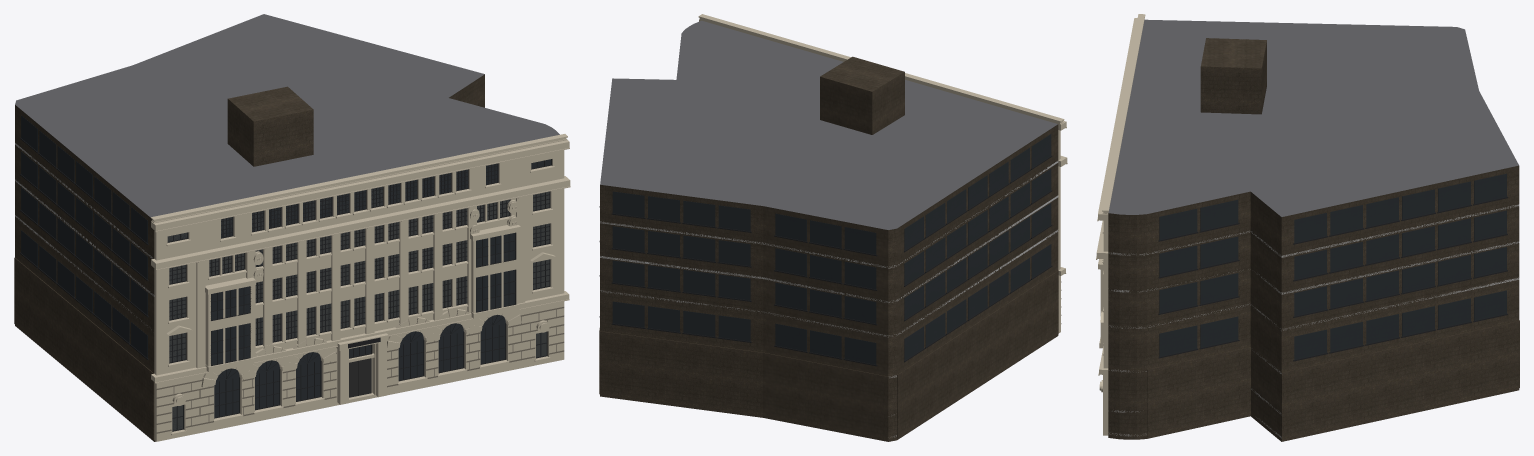
Rendered from barclay_hero4b.glb.
3 views of the same model, side by side, from view 1: azimuth 30°, elevation 25°; view 2: azimuth 150°, elevation 25°; view 3: azimuth 270°, elevation 25° (orthographic). The views are drawn at different scales.
Visible parts, largest first — view 1: HERO_body, Facade_upper, Window_01_sill, Window_02_glass, HERO_side_block_base, Window_03_glass, Window_01_glass, Window_05_glass, Window_04_glass, Parapet, HERO_roof_tower, Window_04_sill (+8 smaller); view 2: HERO_body, HERO_side_block_base, Window_02_glass, Window_04_glass, Window_03_glass, Window_05_glass, HERO_roof_tower, Facade_upper, Floor_04, Window_02_frame, Window_03_frame, Window_04_frame (+4 smaller); view 3: HERO_body, HERO_side_block_base, Window_03_glass, Window_02_glass, Window_04_glass, Window_05_glass, HERO_roof_tower, Facade_upper, Parapet, Floor_05, Floor_04, Window_03_frame (+5 smaller).
Part boxes in pixels (x1,y1,x2,y2): HERO_body: (15, 14, 559, 441); Facade_upper: (151, 134, 567, 375); Window_01_sill: (151, 291, 569, 441); Window_02_glass: (21, 230, 549, 364); HERO_side_block_base: (14, 257, 154, 439); Window_03_glass: (21, 187, 549, 319); Window_01_glass: (172, 314, 546, 430); Window_05_glass: (21, 115, 551, 243); Window_04_glass: (21, 151, 549, 283); Parapet: (151, 138, 569, 246); HERO_roof_tower: (227, 86, 313, 166); Window_04_sill: (151, 176, 570, 287); HERO_body: (600, 20, 1058, 441); HERO_side_block_base: (599, 270, 1058, 439); Window_02_glass: (612, 244, 1051, 364); Window_04_glass: (612, 169, 1051, 289); Window_03_glass: (612, 203, 1051, 323); Window_05_glass: (612, 134, 1051, 254); HERO_roof_tower: (820, 56, 904, 134); Facade_upper: (698, 14, 1064, 270); Floor_04: (600, 195, 1058, 302); Window_02_frame: (599, 265, 1052, 366); Window_03_frame: (599, 224, 1052, 325); Window_04_frame: (599, 190, 1052, 290); HERO_body: (1108, 19, 1519, 441); HERO_side_block_base: (1147, 320, 1519, 439); Window_03_glass: (1159, 247, 1506, 316); Window_02_glass: (1159, 290, 1506, 359); Window_04_glass: (1159, 210, 1506, 279); Window_05_glass: (1159, 173, 1506, 242); HERO_roof_tower: (1200, 38, 1266, 114); Facade_upper: (1098, 14, 1145, 368); Parapet: (1097, 18, 1137, 233); Floor_05: (1109, 204, 1519, 257); Floor_04: (1111, 241, 1519, 294); Window_03_frame: (1158, 270, 1507, 317).
Bounding box in the file's own units: 38.64 × 24.43 × 34.67.
12 materials, 2 textured.
